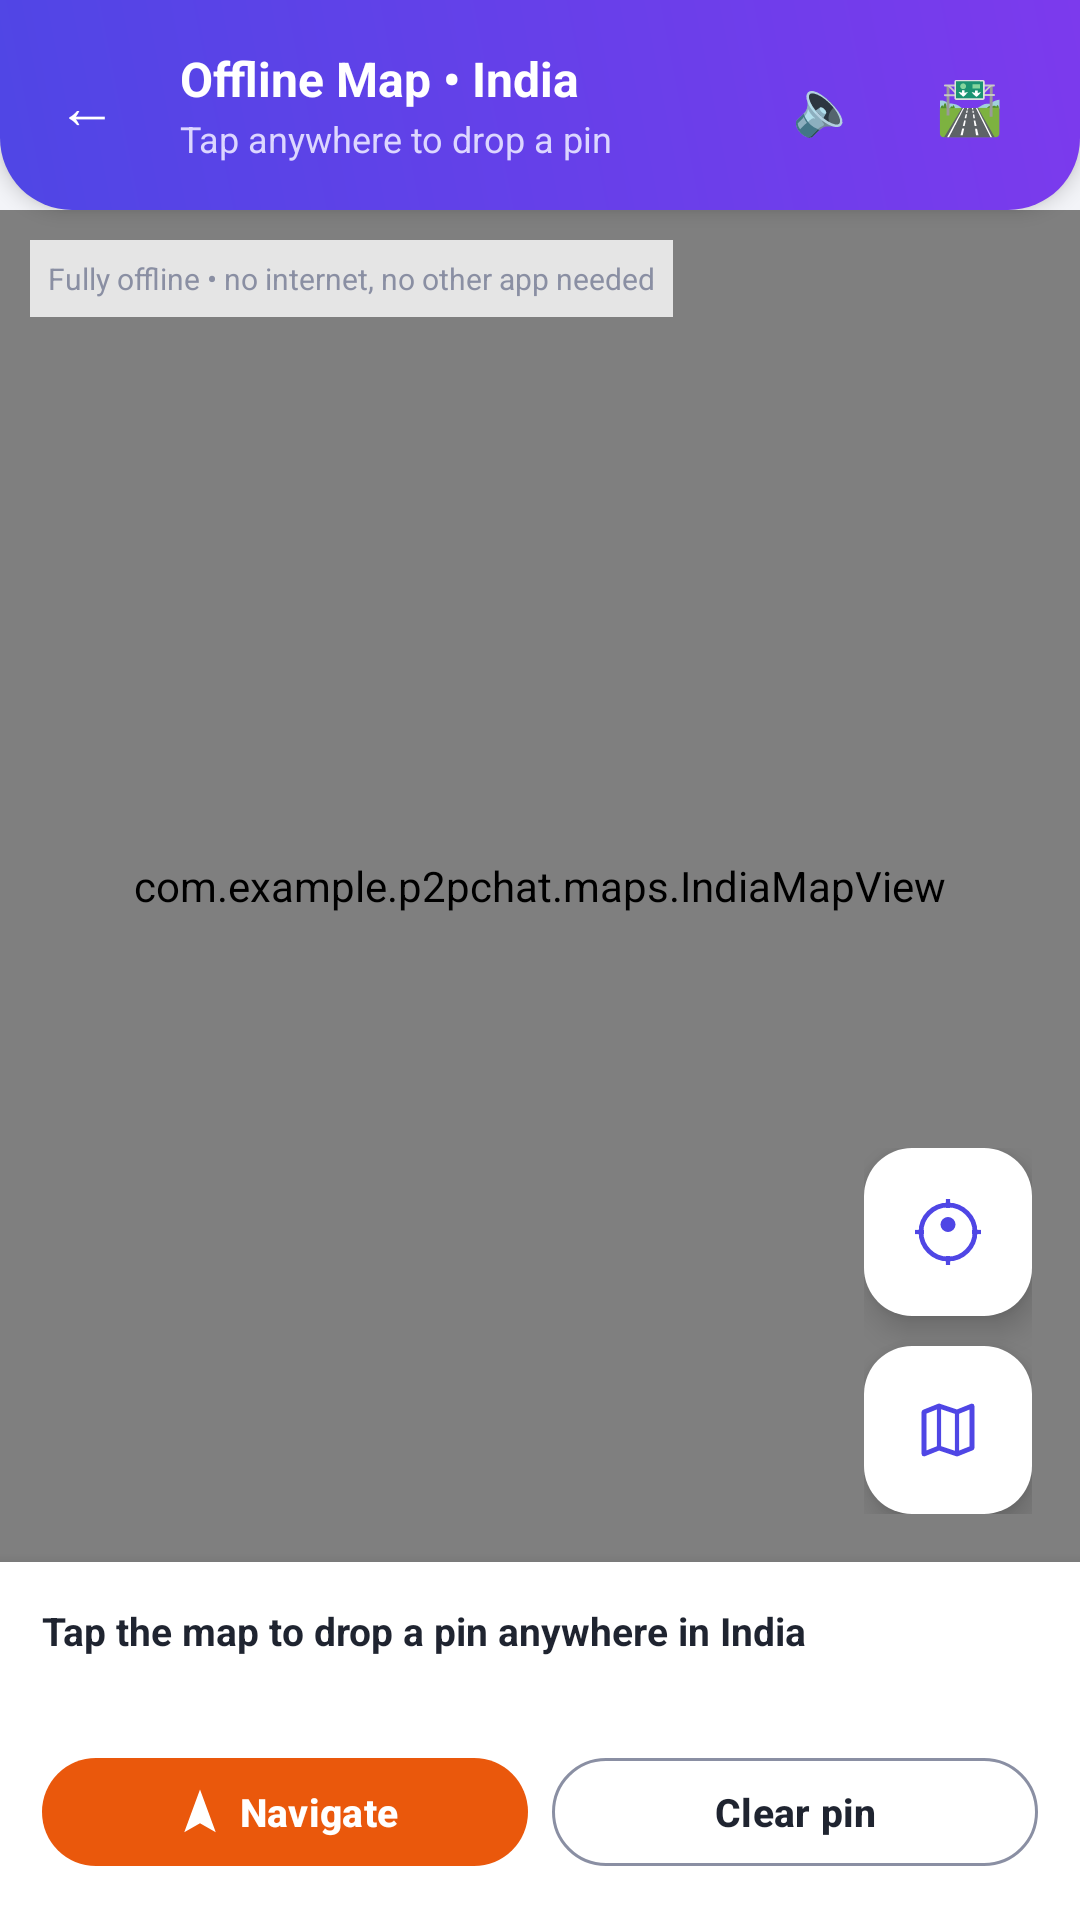

Icons on this 1080*1920 Android screen, each with the point to tap as (x,y):
location: (948,1232)
